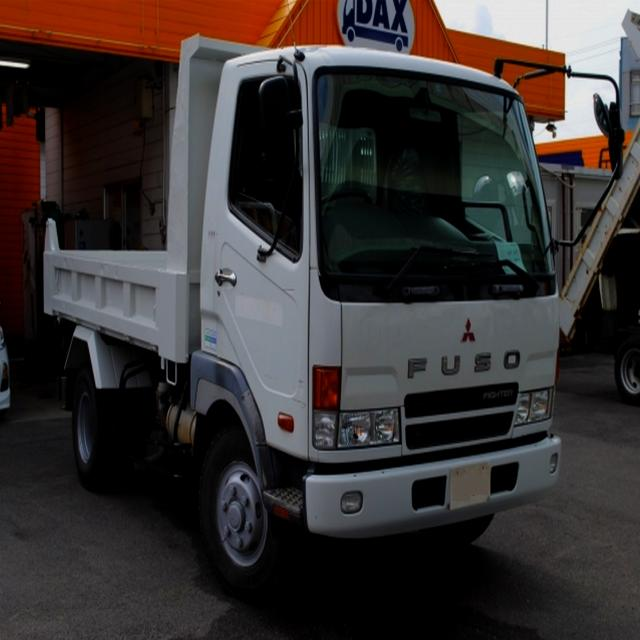truck: (42, 25, 621, 591)
